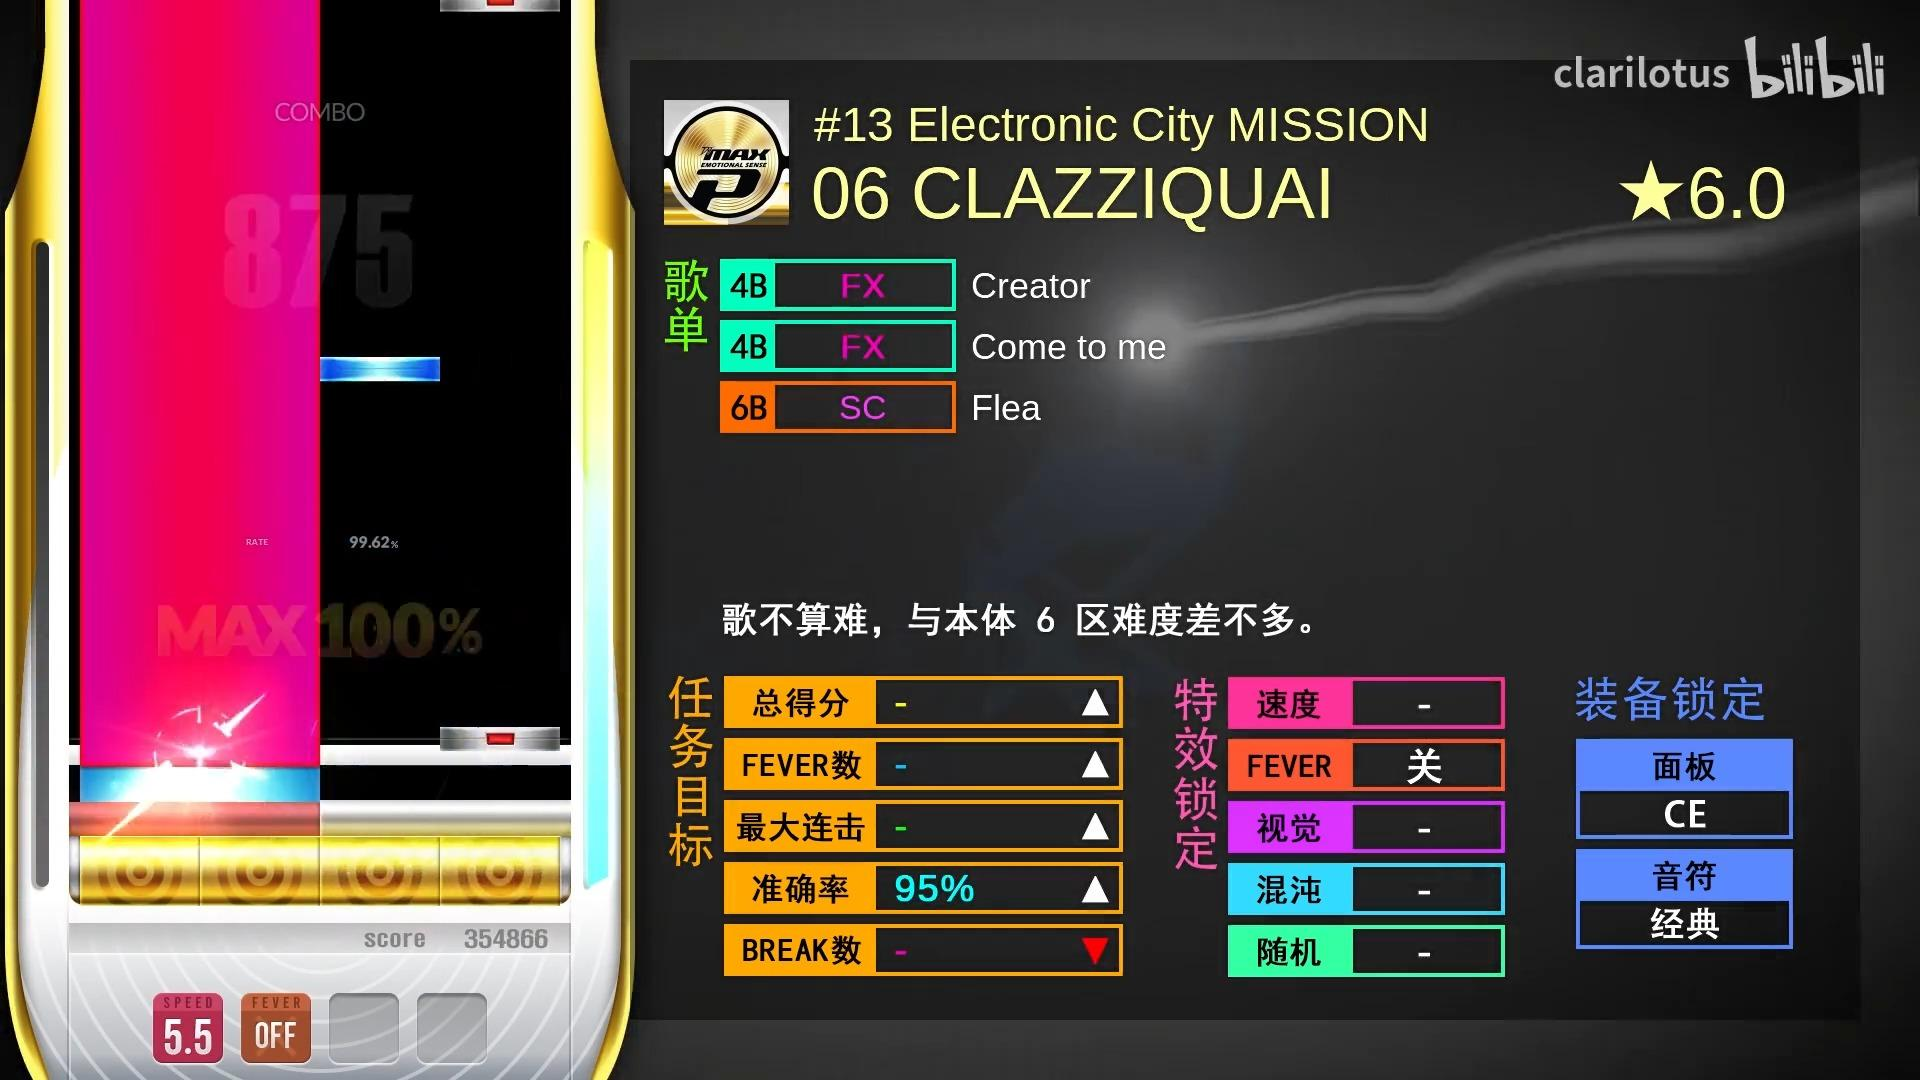note: (319, 356, 440, 382), (439, 727, 560, 752)
